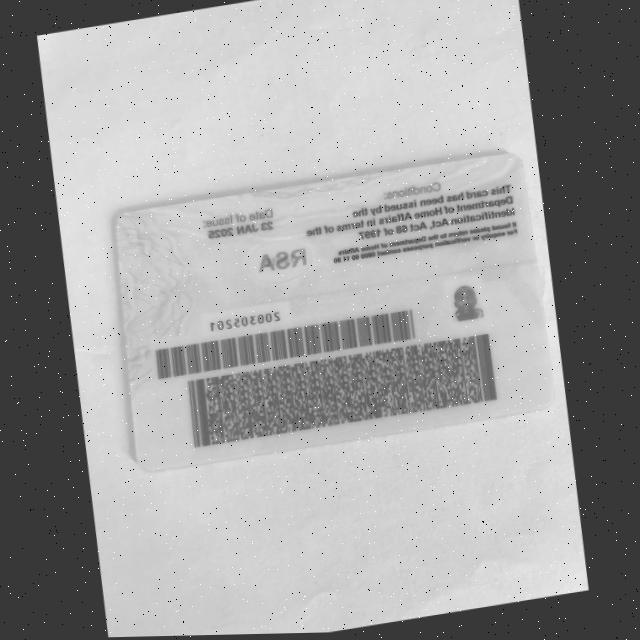card: (116, 155, 552, 469)
